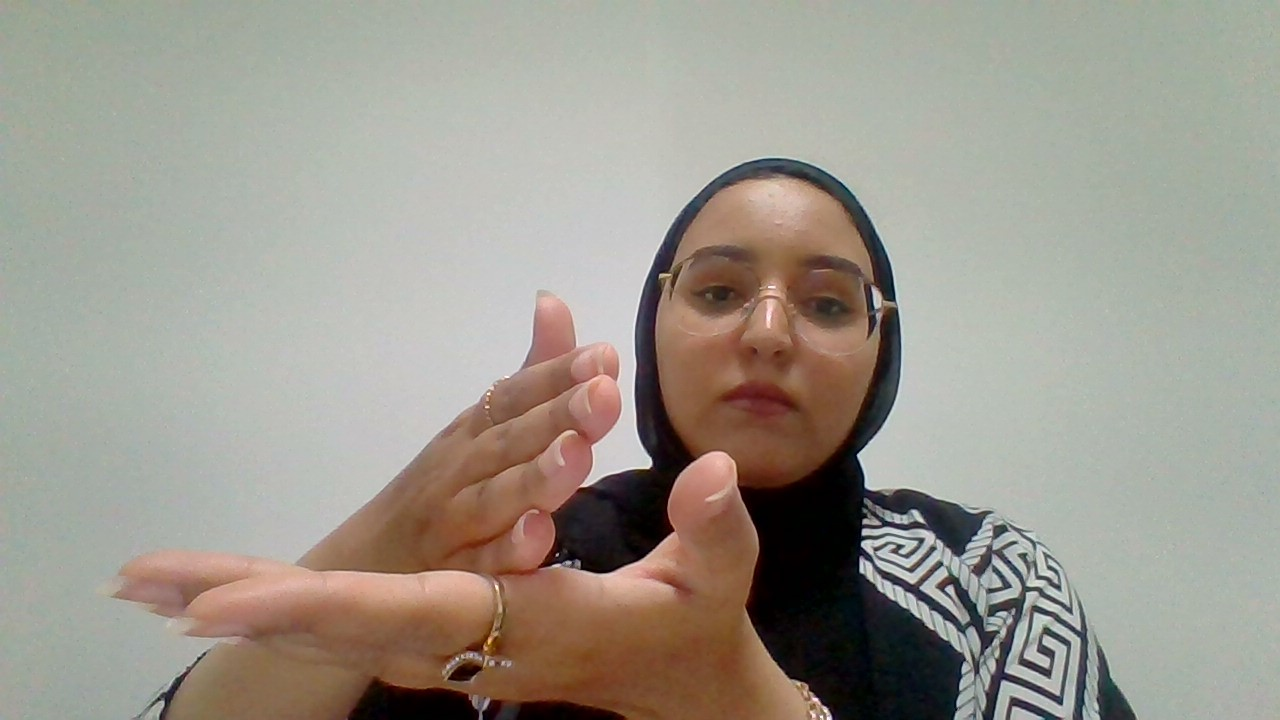stop: (89, 282, 759, 714)
